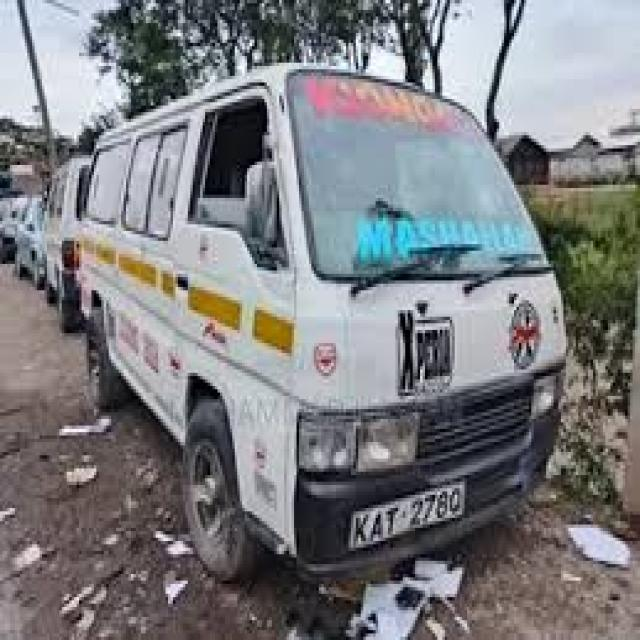matatu: (82, 34, 640, 640)
